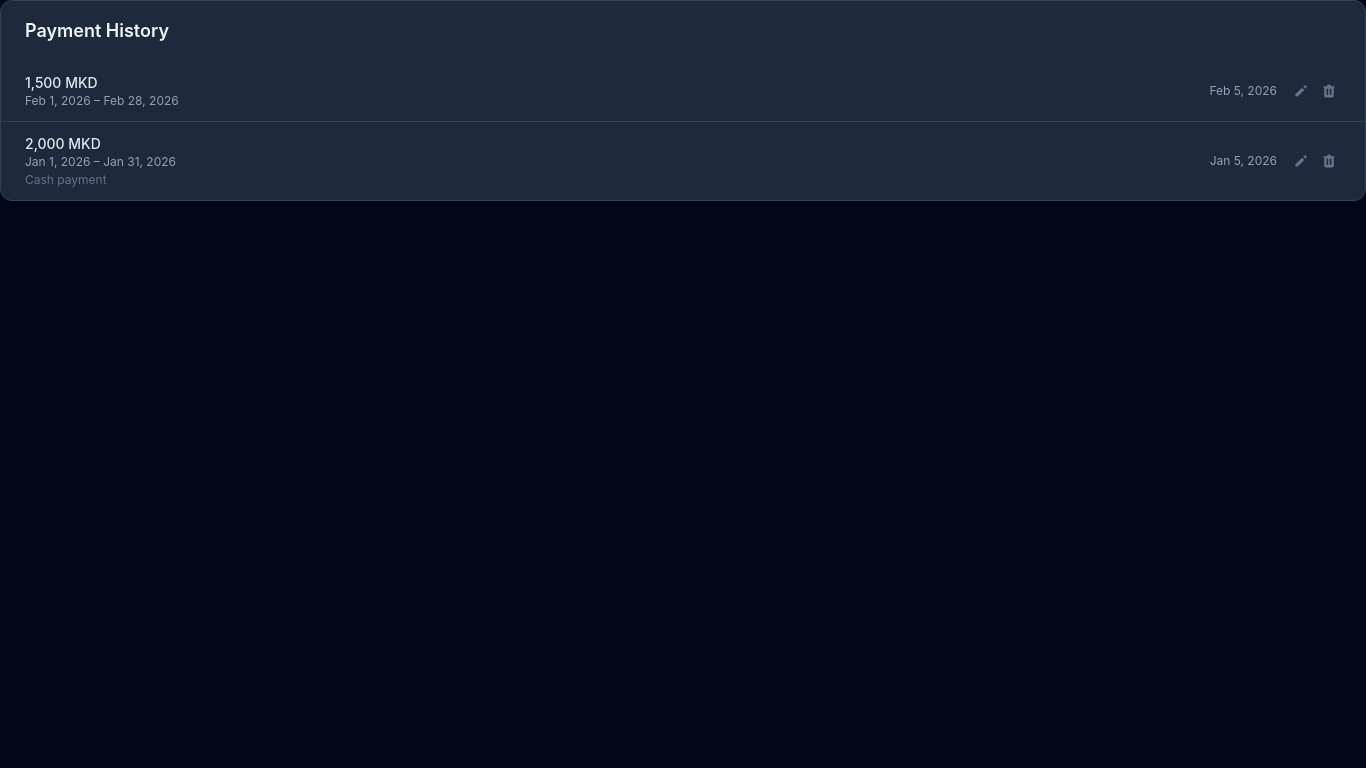
Test case: PaymentHistory › delete flow › opens delete confirmation modal
This screenshot has width=1366, height=768.
Click the button named "Delete payment for 1,500 MKD".
click(1329, 91)  # box [1317, 79, 1341, 103]
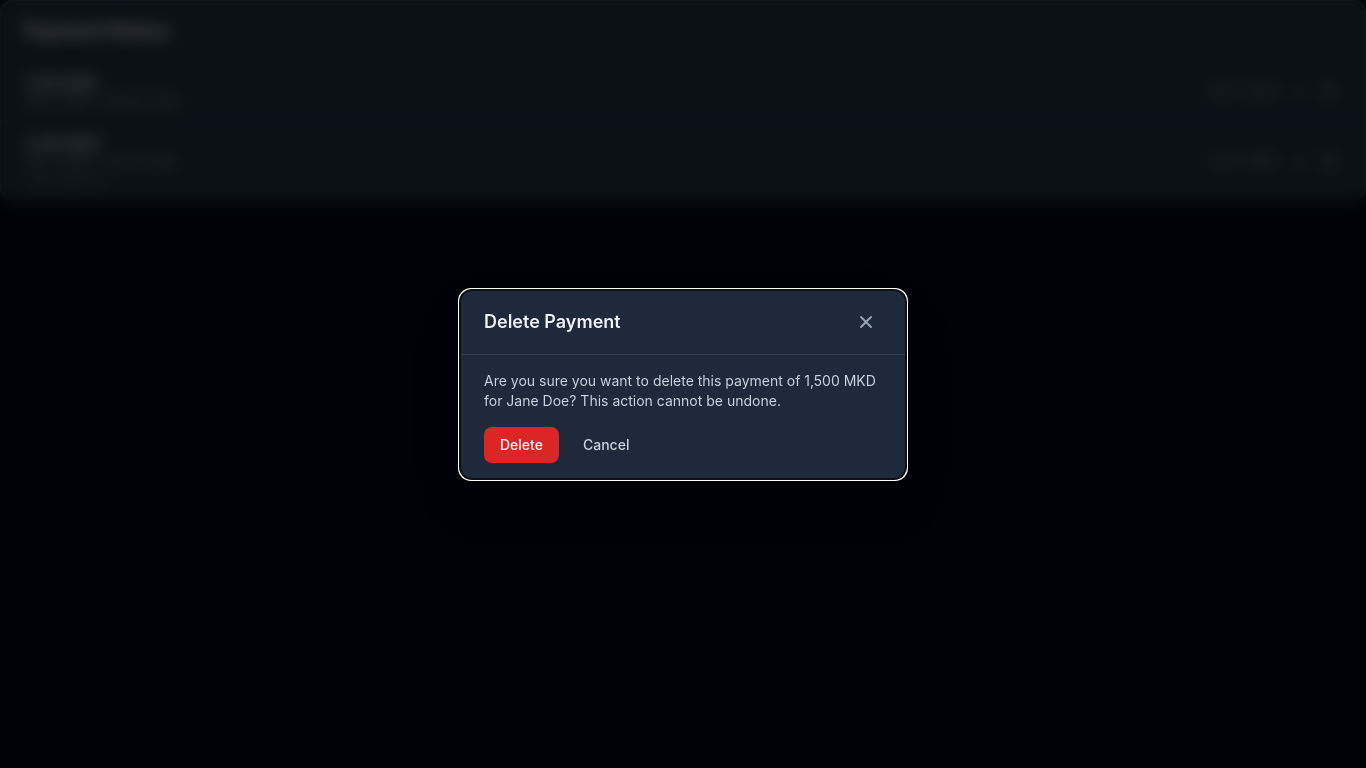
expect the heading "Delete Payment" is shown: met, box [484, 308, 621, 336]
expect the text "Jane Doe" is shown: met, box [484, 372, 876, 408]
